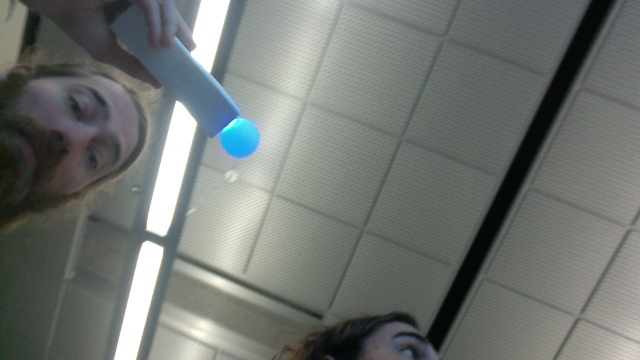wand: (223, 118, 261, 157)
